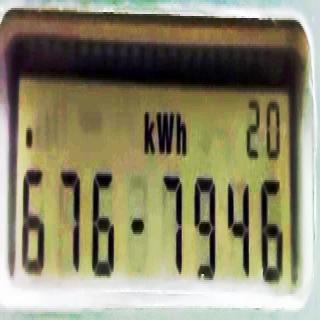-: (130, 208, 146, 246), (24, 122, 36, 152)
0: (264, 93, 282, 167)
2: (244, 90, 261, 167)
4: (226, 171, 253, 285), (259, 174, 284, 290)
6: (88, 162, 118, 284), (20, 163, 48, 283)
7: (160, 162, 184, 289), (57, 159, 82, 279)
9: (190, 167, 219, 291)
